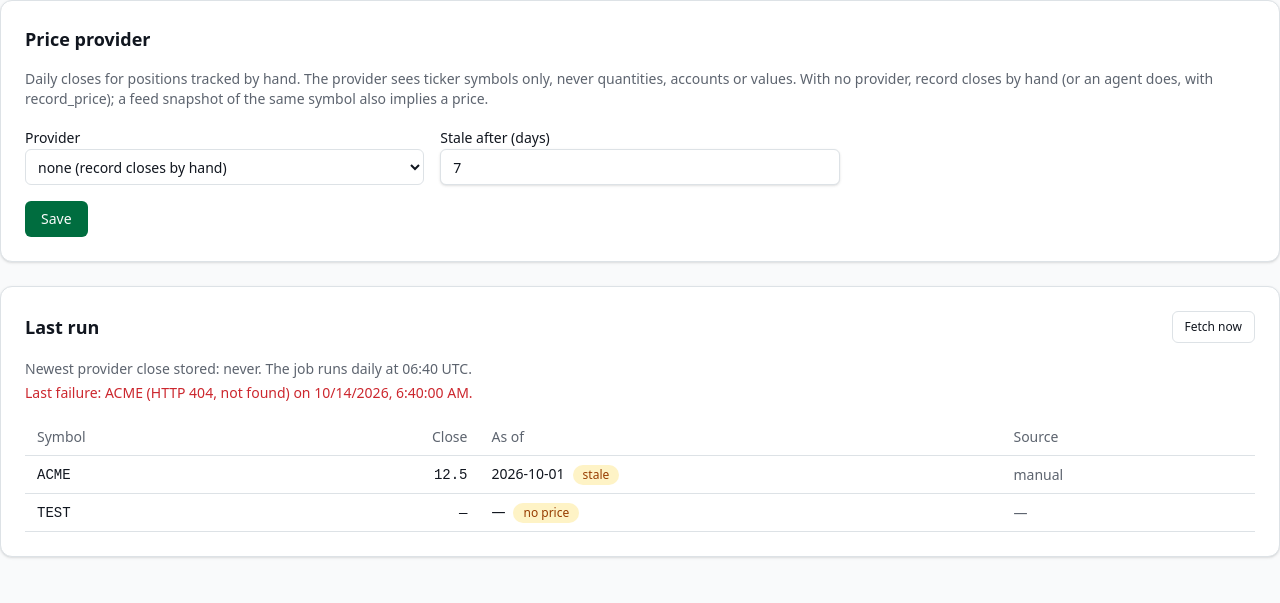
Test: Config, Prices (#390) › shows each symbol's close, the last failure, and runs fetch now
The image size is (1280, 603).
Check: the text "ACME" is shown, box x1=25 y1=456 x2=275 y2=494
Check: the text "stale" is shown, box x1=573 y1=465 x2=619 y2=485
Click the button "Fetch now". click: (1213,327)
box: x1=1172 y1=311 x2=1255 y2=343
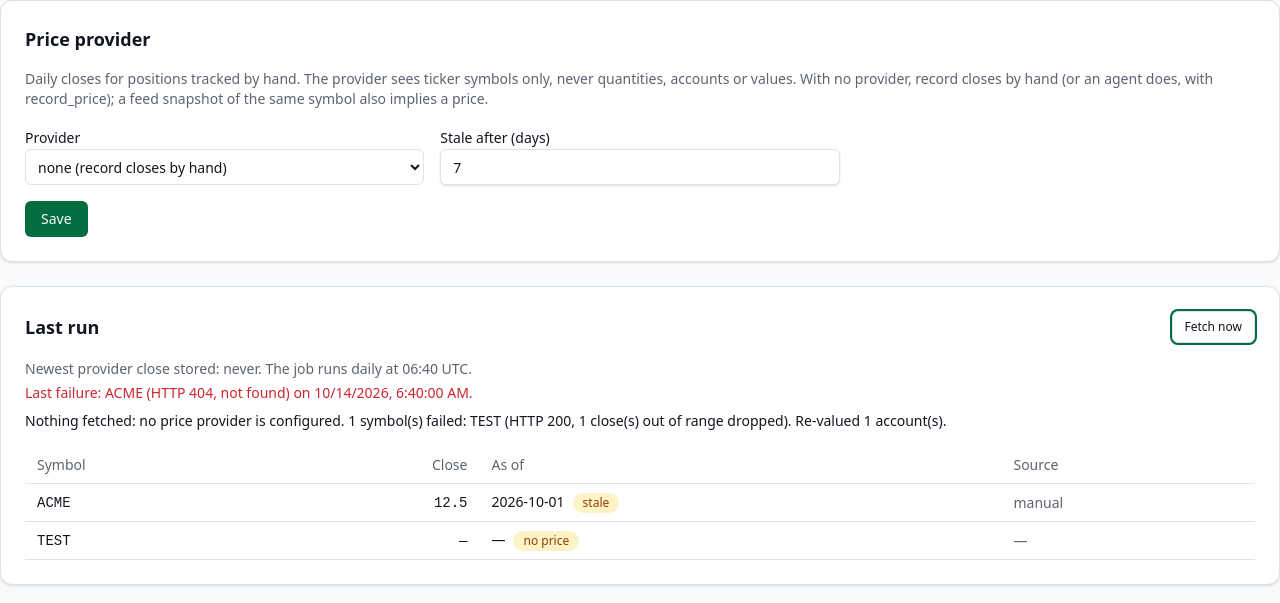
Check: the message shows "Nothing fetched: no price provider is configured.", box x1=25 y1=411 x2=345 y2=430
Check: the message shows "1 symbol(s) failed: TEST (HTTP 200, 1 close(s) out of range dropped).", box x1=345 y1=411 x2=792 y2=430
